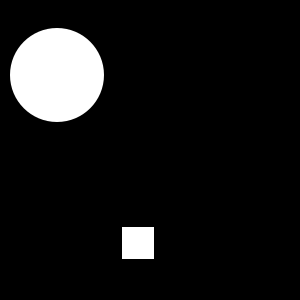circle: (122, 227, 154, 259)
rectangle: (10, 28, 104, 122)
